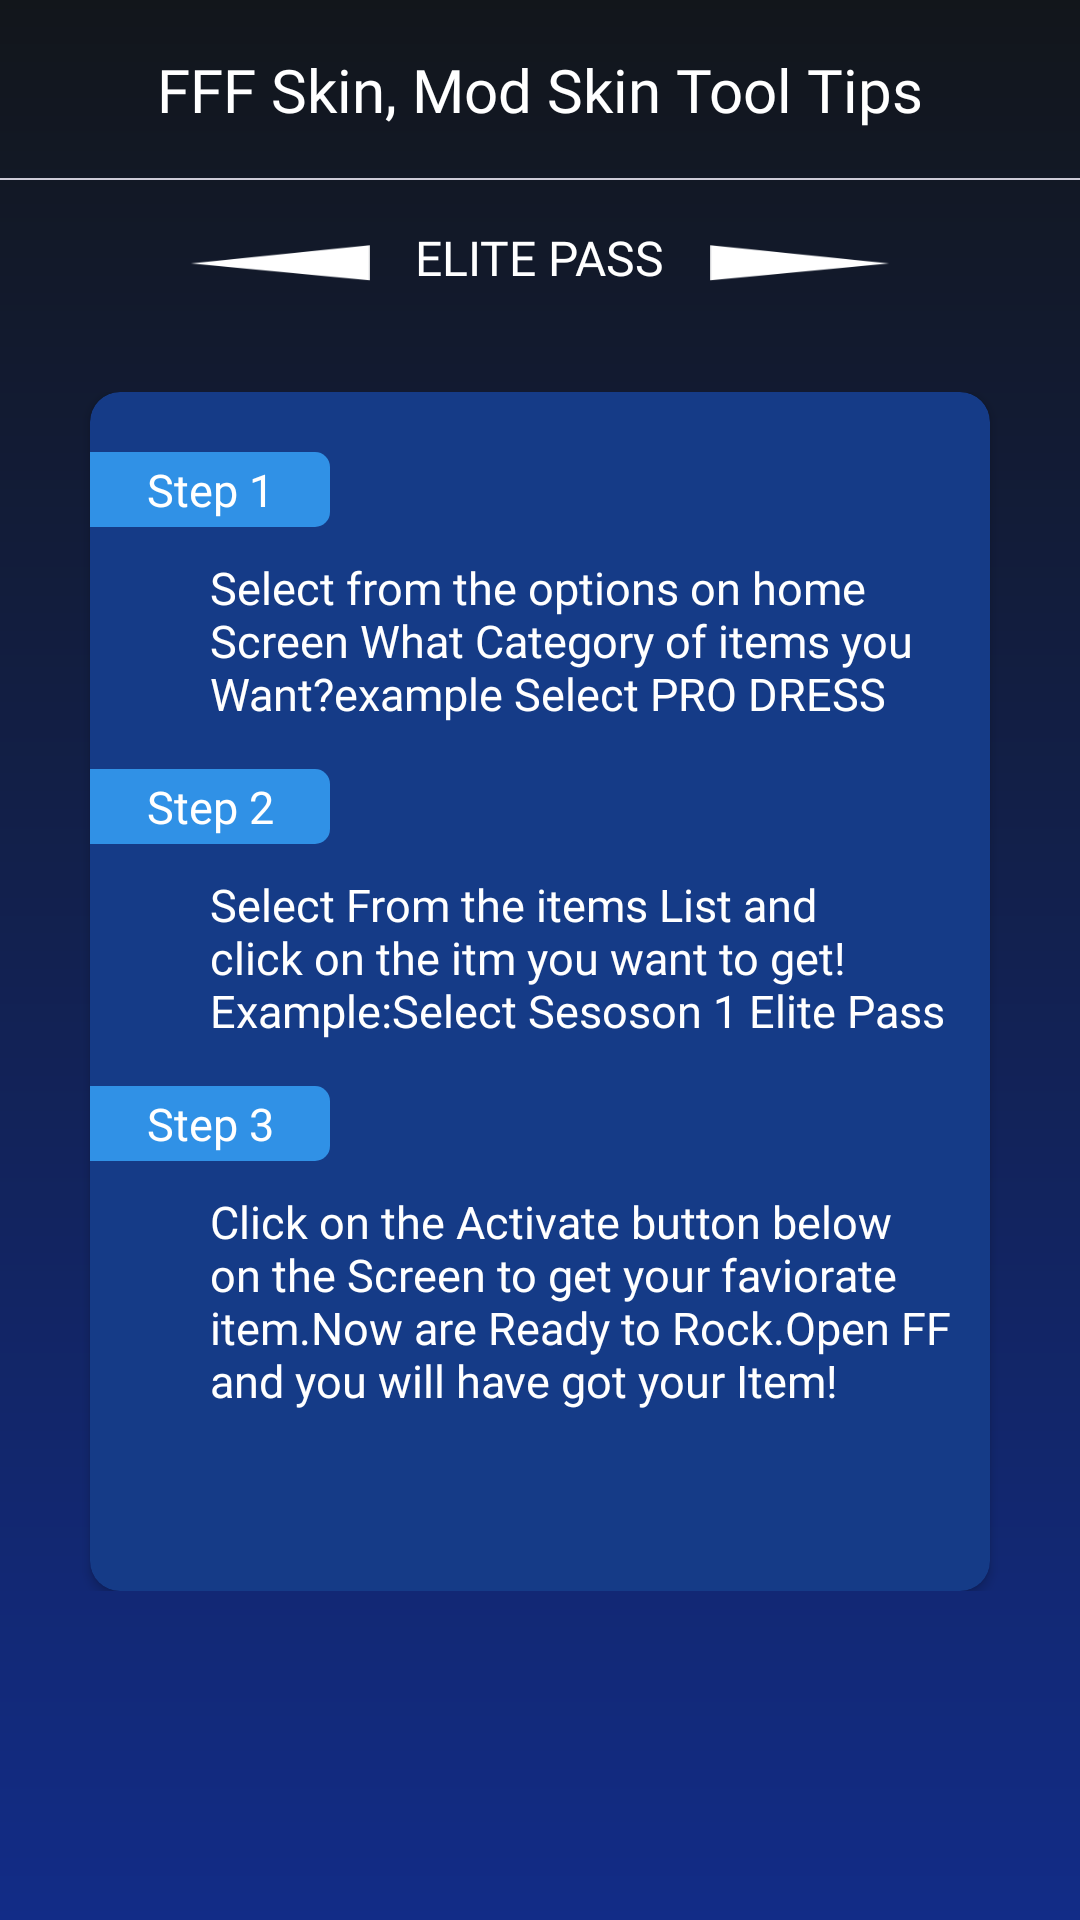

Point at icon controls on the screen. Image size 1080px x 1920px, points as (x,y).
left: (281,263)
right: (799,263)
